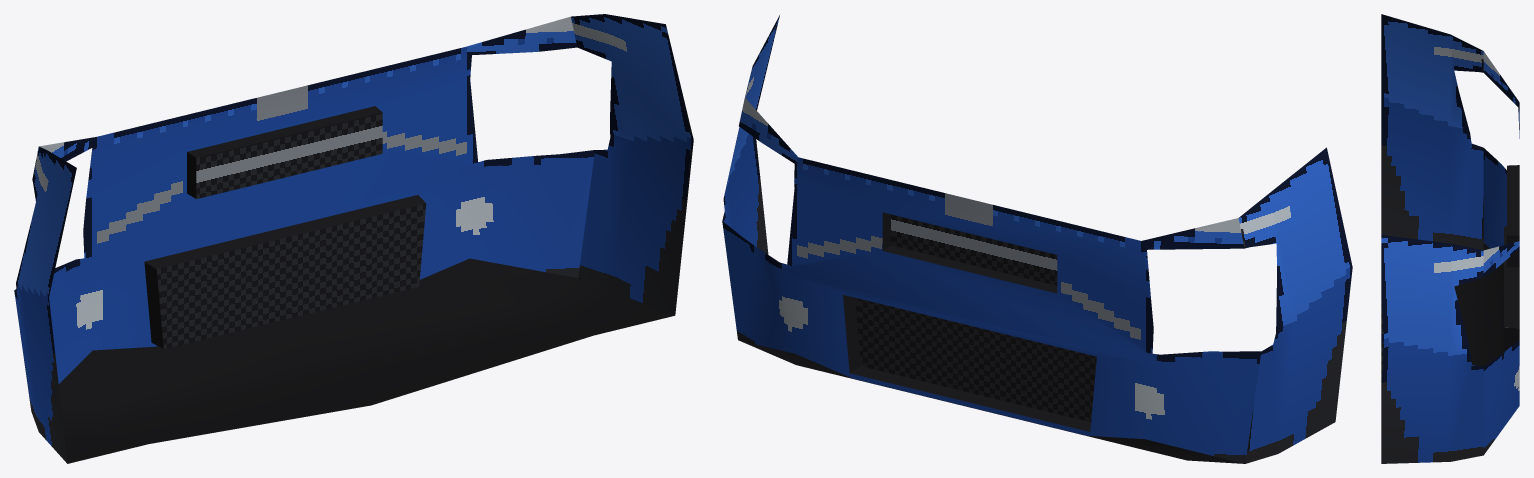
Rendered from bumper_F_lip.glb.
The picture shows the model from 3 angles, left to right: view 1: azimuth 30°, elevation 25°; view 2: azimuth 150°, elevation 25°; view 3: azimuth 270°, elevation 25°; orthographic projection. The views are drawn at different scales.
Visible parts, largest first — view 1: bumper_F_lip; view 2: bumper_F_lip; view 3: bumper_F_lip.
Boxes of the visible parts, x1,y1,x2,y2 form: bumper_F_lip: (14, 14, 693, 463); bumper_F_lip: (722, 15, 1352, 463); bumper_F_lip: (1381, 14, 1519, 463).
Size of the model in its own units: 1.75 by 0.8056 by 0.4225.
Materials: 1 (1 with a texture image).
